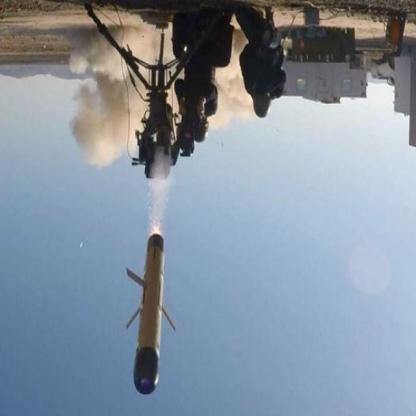MIL_TBM: (130, 226, 166, 400)
